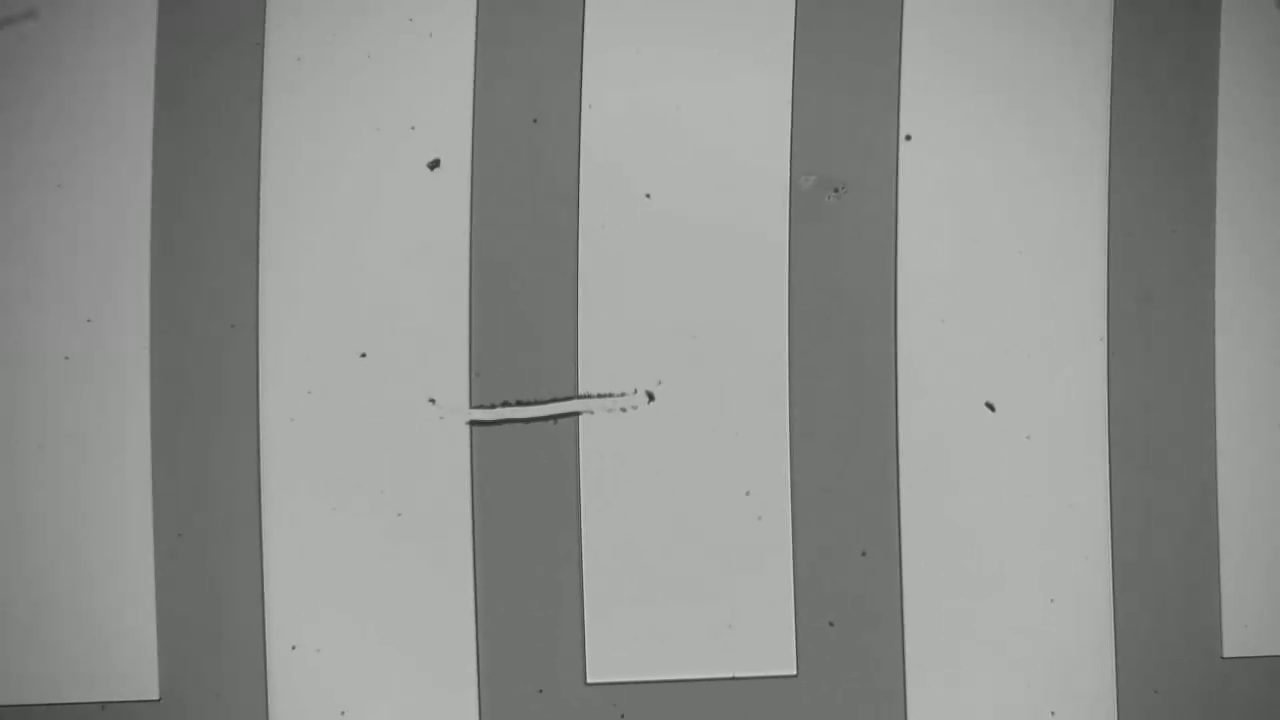Short_circuit: (445, 374, 618, 456)
